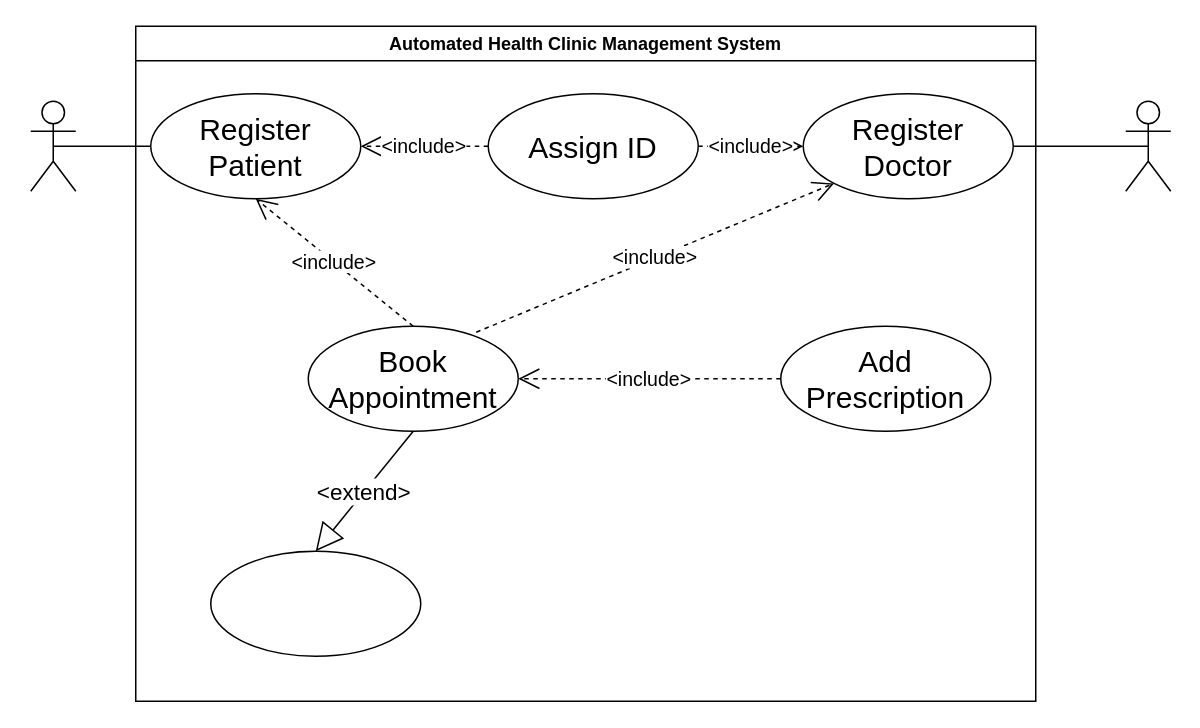
Some shapes in this 1200 by 728 pixel diagram are drawn without their labels. Here are the shapes that lost their labels. From the top down, the centre of each, then its label:
At point 52,145: "Patient".
At point 1147,145: "Doctor".
At point 315,603: "View Medical History".
